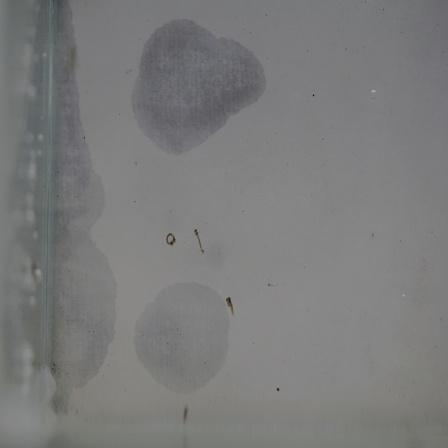Jentik-Nyamuk: (189, 224, 208, 257), (222, 294, 239, 321), (161, 228, 179, 249)
